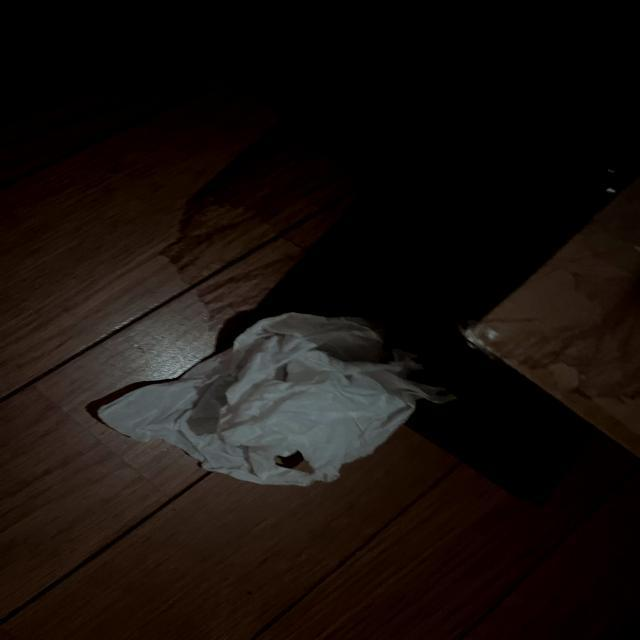Paper: (84, 295, 434, 515)
